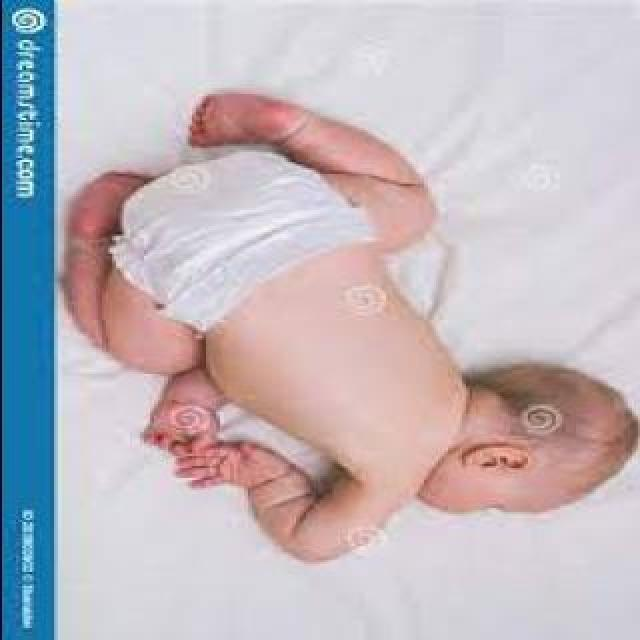baby: (57, 98, 637, 562)
